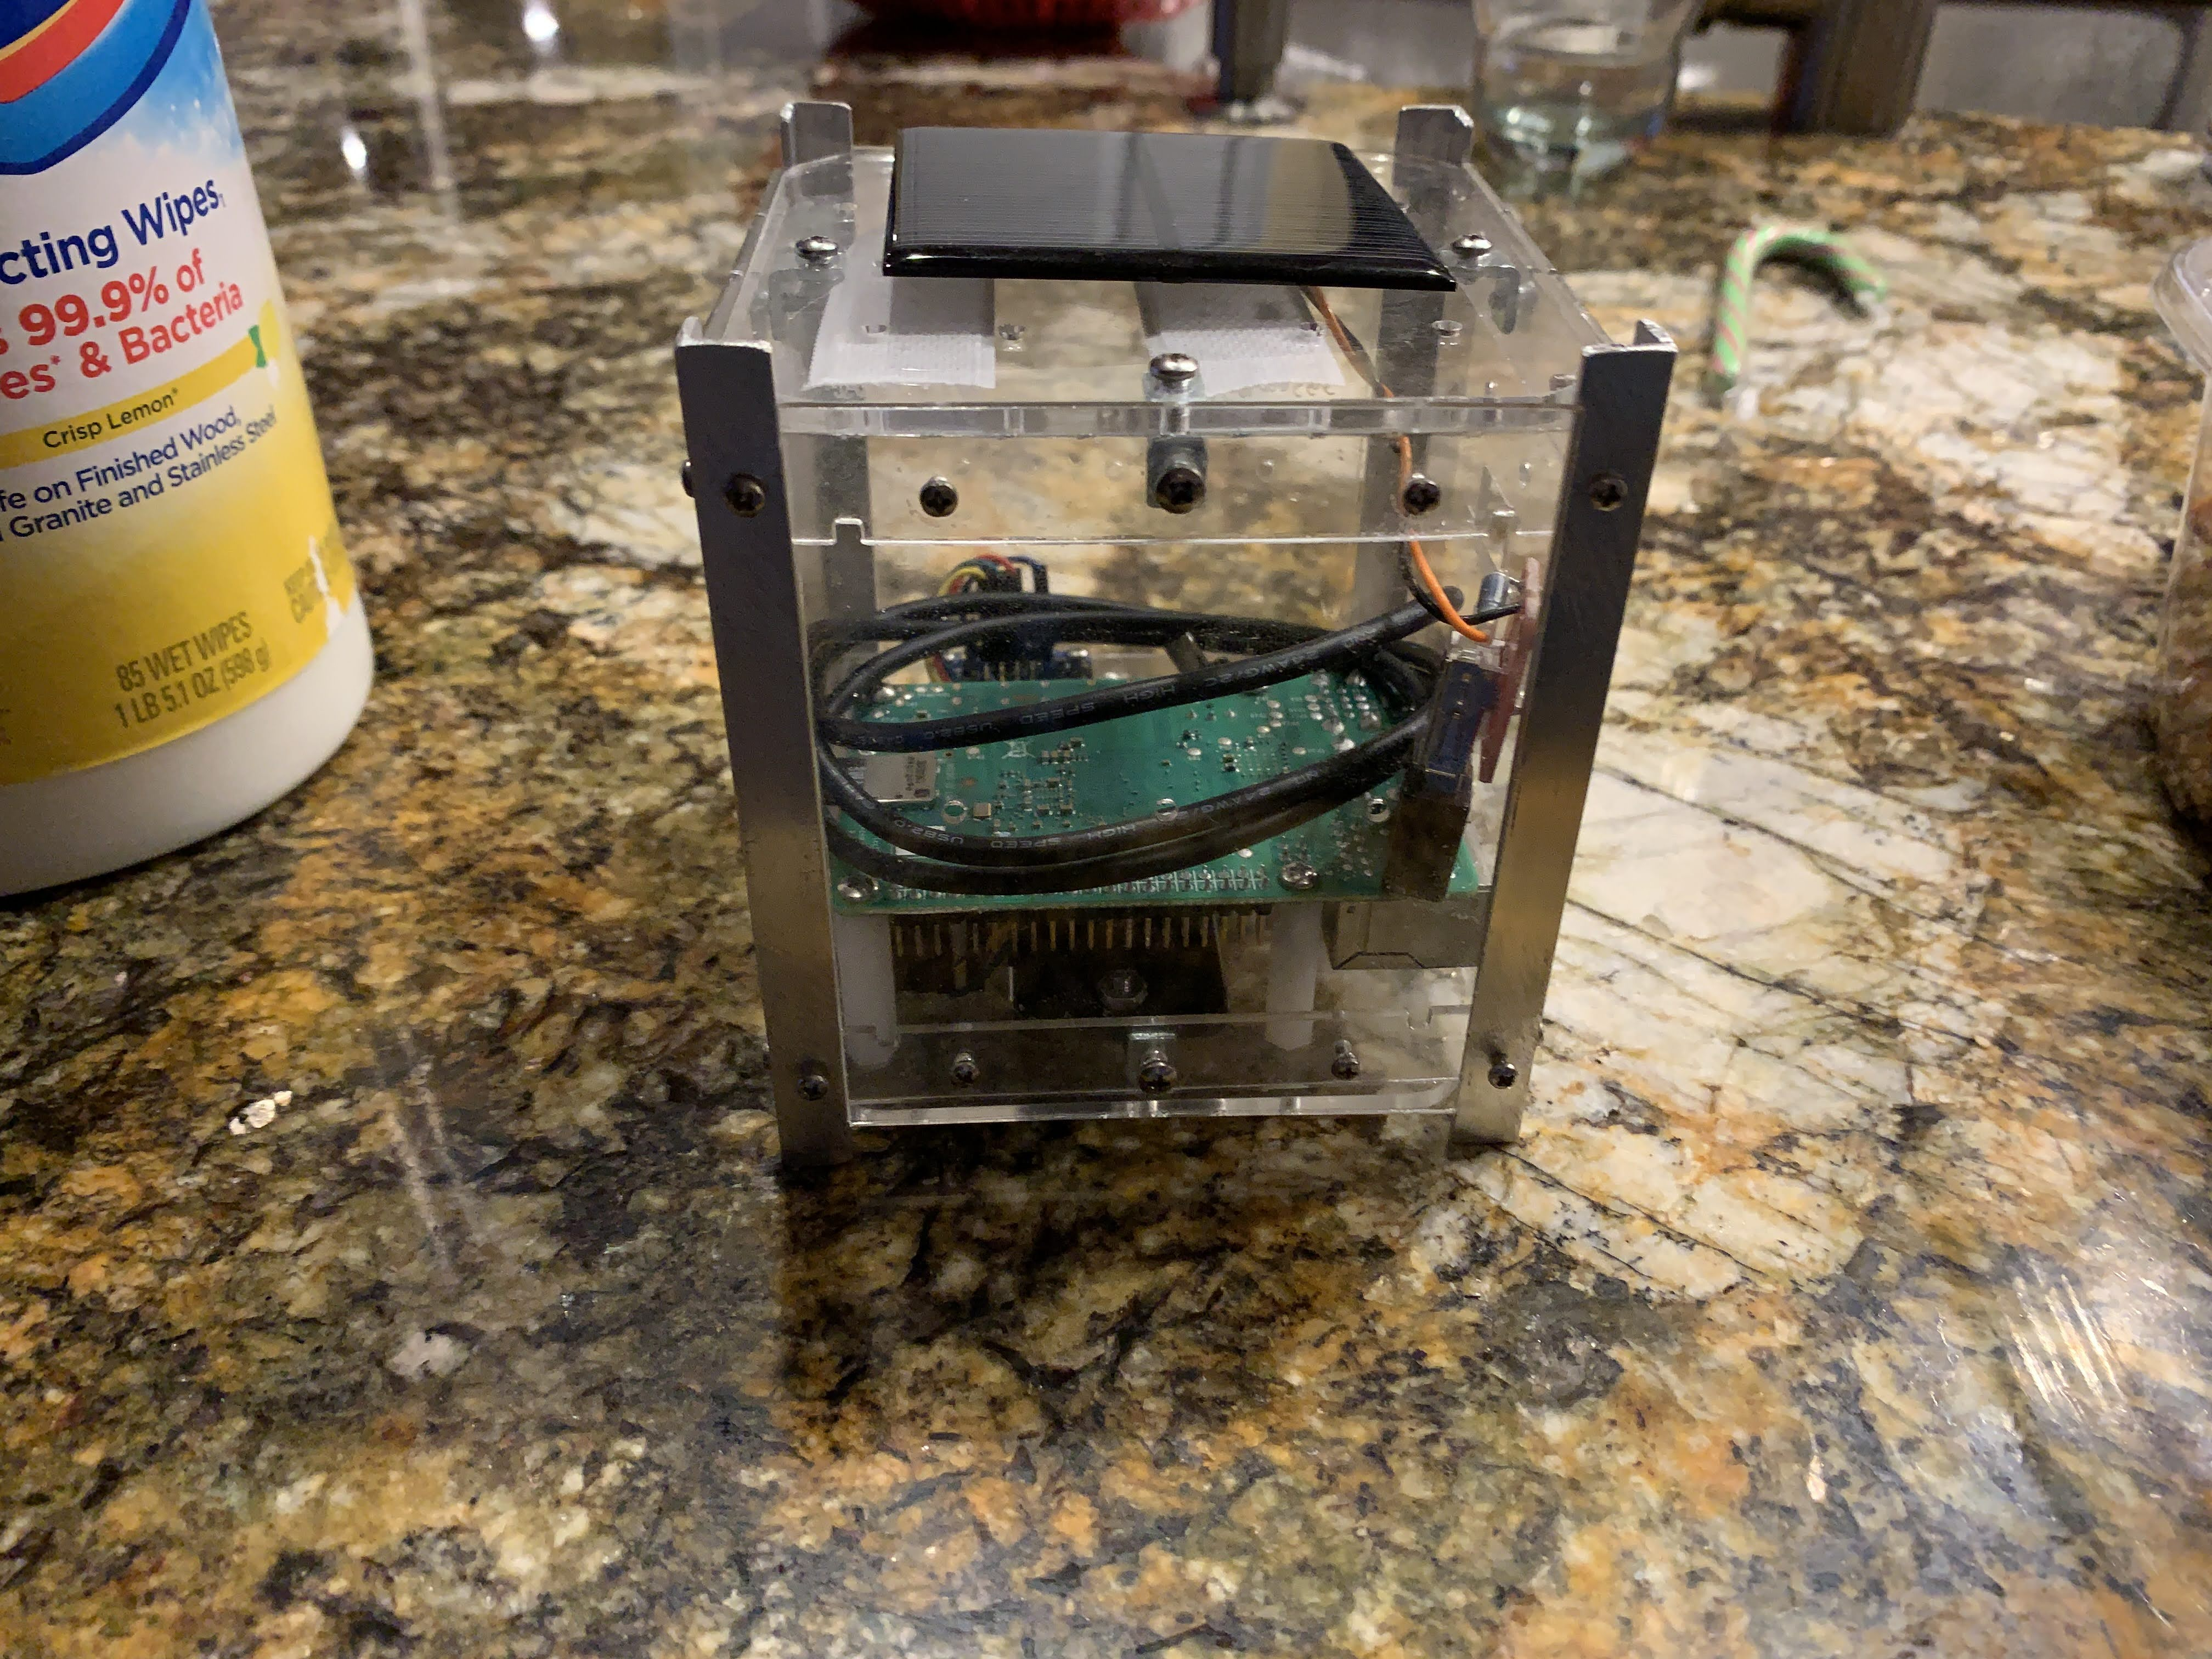Space-debris-cubesat: (665, 85, 1684, 1178)
